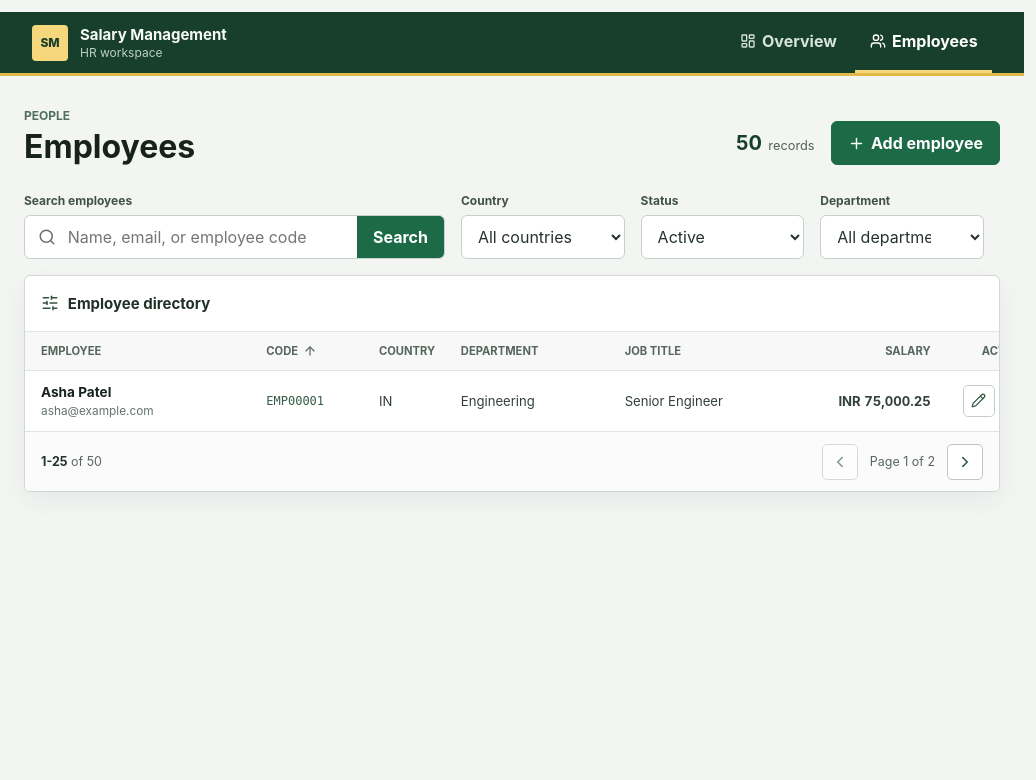
it: shows the empty state when no inactive employees match
expect the text "Asha Patel" is shown: met, box [41,384,111,400]
Select "Inactive" in the dropdown labelled "Status" at (722, 237), box [641,215,804,259]
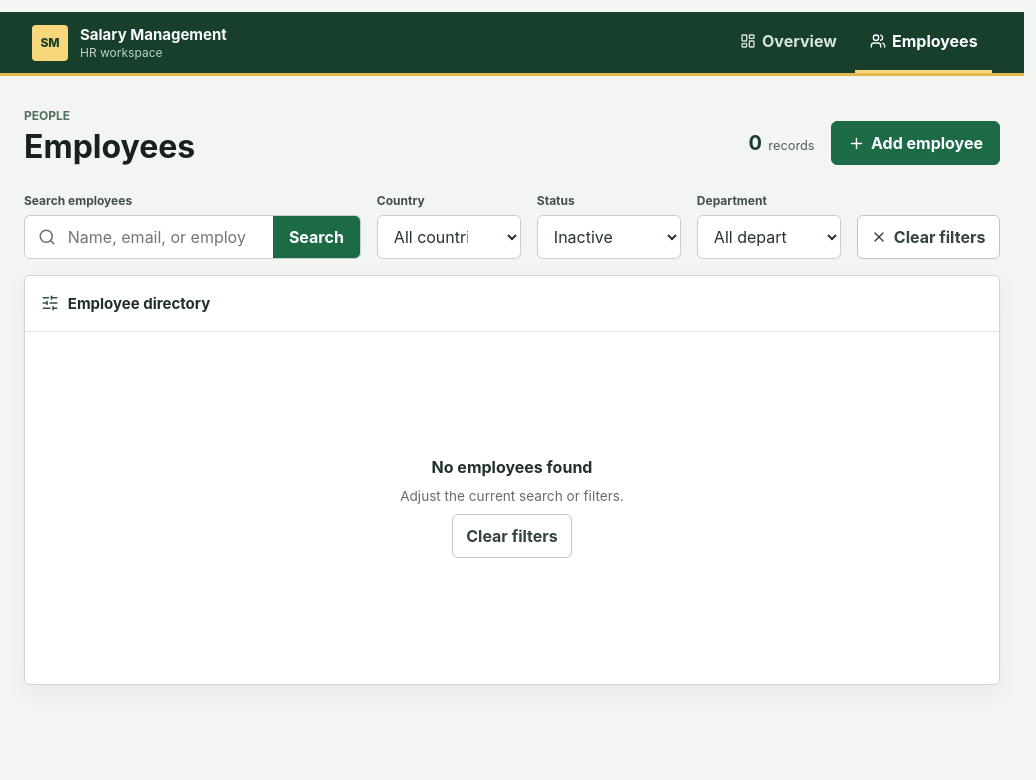
expect the heading "No employees found" is shown: met, box [432,457,592,477]
expect the number of buttons "Clear filters" is 2: met, box [857,215,1000,259]; [452,514,572,558]
